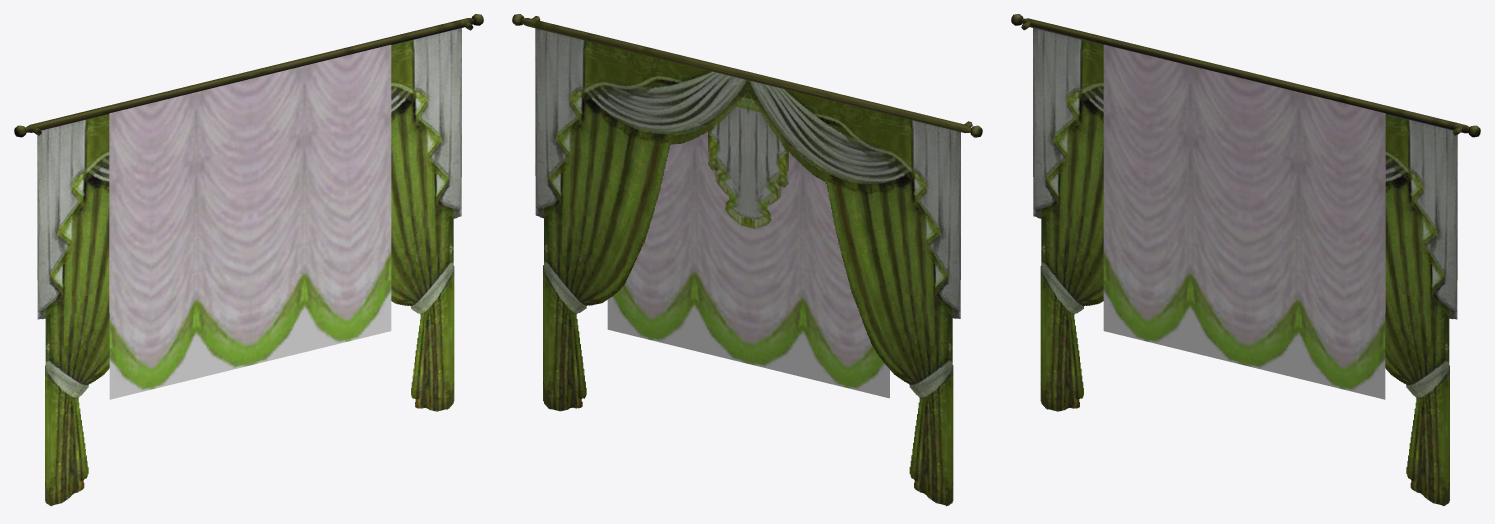
The model's file is furni_0201233_03.FBX.
3 renders of one model, left to right at view 1: azimuth 30°, elevation 25°; view 2: azimuth 150°, elevation 25°; view 3: azimuth 330°, elevation 25°, orthographic.
Visible parts, largest first — view 1: furni_0201233_03; view 2: furni_0201233_03; view 3: furni_0201233_03.
Boxes of the visible parts, left/top/right/bottom form: furni_0201233_03: left=14, top=14, right=483, bottom=505; furni_0201233_03: left=512, top=14, right=982, bottom=506; furni_0201233_03: left=1011, top=14, right=1480, bottom=505.
Bounding box in the file's own units: 353 × 279 × 12.24.
